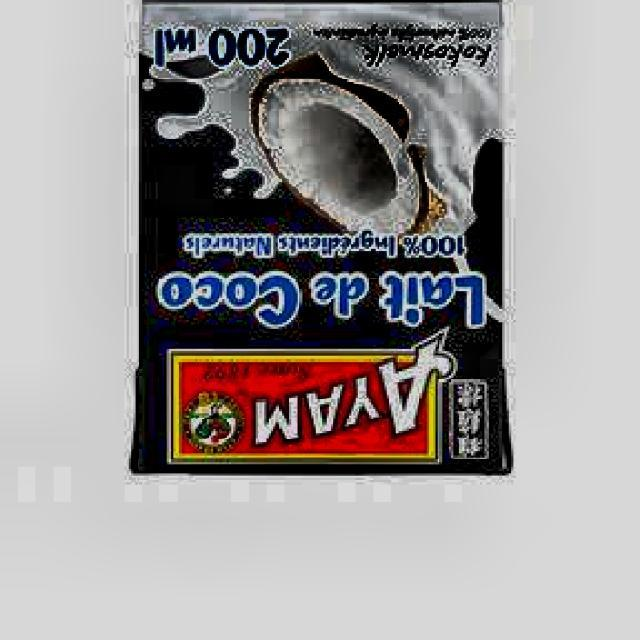cardboard: (131, 0, 513, 478)
